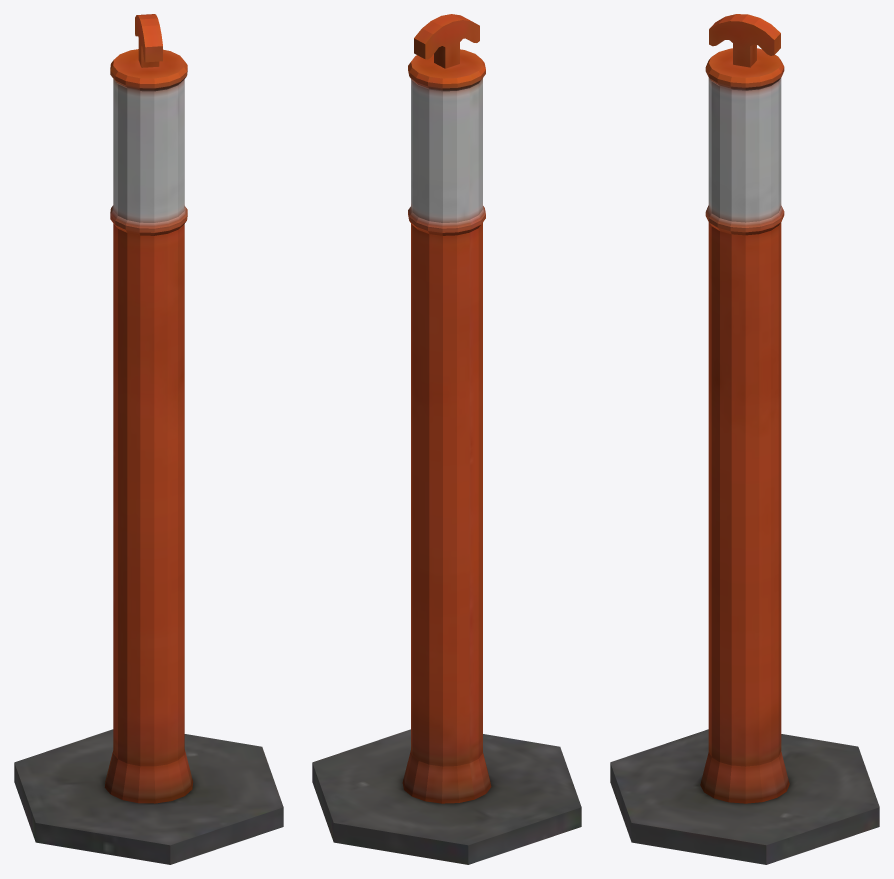
3 views of the same model, side by side, from view 1: azimuth 30°, elevation 25°; view 2: azimuth 150°, elevation 25°; view 3: azimuth 270°, elevation 25° (orthographic).
Parts seen in each view (by area): view 1: geometry_0; view 2: geometry_0; view 3: geometry_0.
Boxes of the visible parts, x1,y1,x2,y2 form: geometry_0: [14, 14, 283, 864]; geometry_0: [312, 14, 581, 864]; geometry_0: [610, 14, 879, 864].
Size of the model in its own units: 0.3956 by 1.2 by 0.3722.
Materials: 1 (1 with a texture image).
